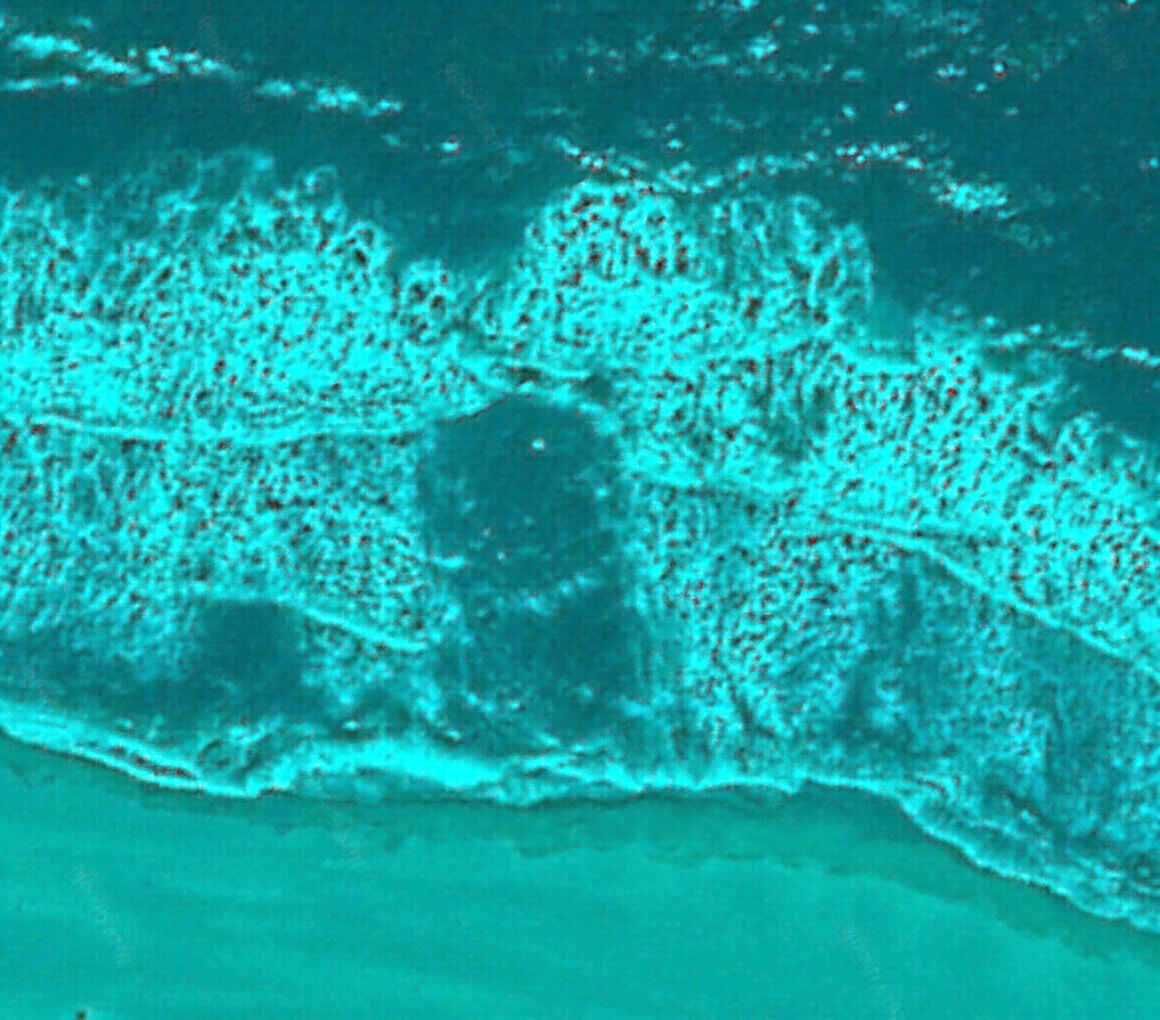rip_current: (313, 289, 721, 721)
